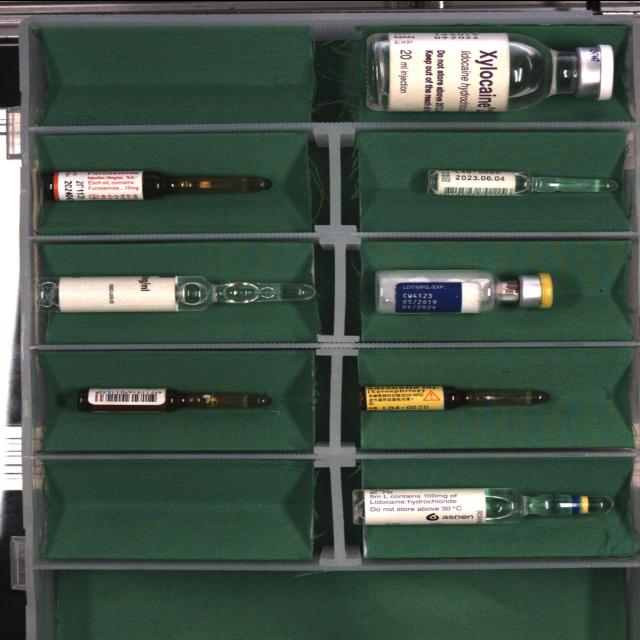Vials: (367, 31, 614, 110), (375, 269, 554, 312)
